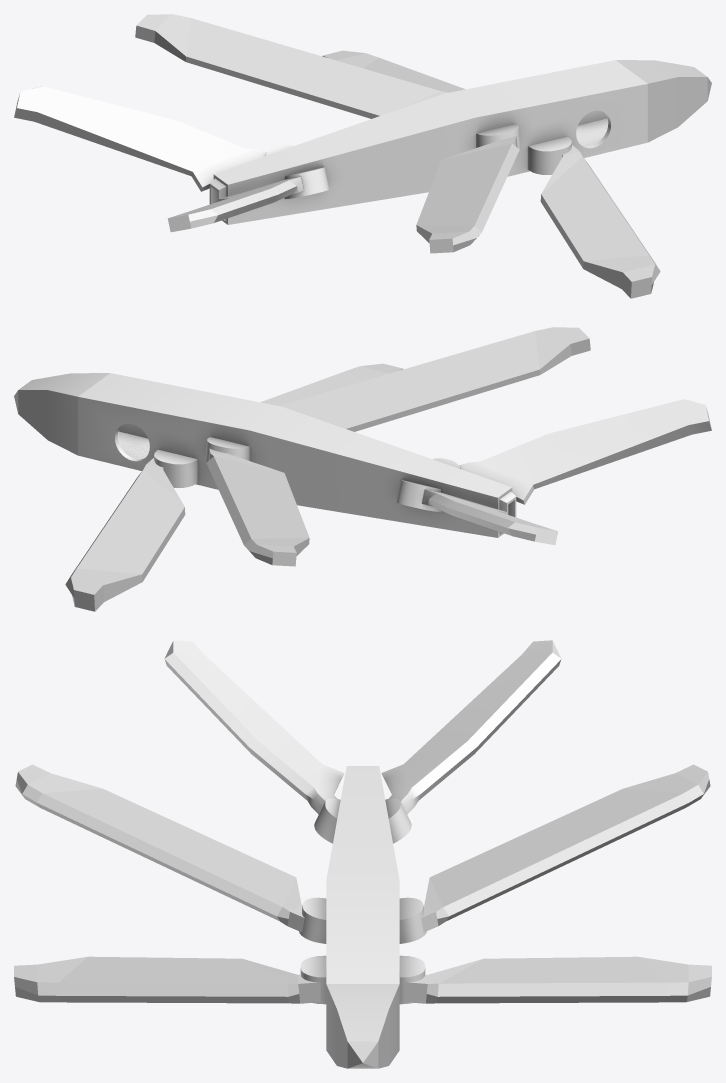
Rendered from ship with interiors.glb.
The picture shows the model from 3 angles, top to bottom: view 1: azimuth 30°, elevation 25°; view 2: azimuth 150°, elevation 25°; view 3: azimuth 270°, elevation 25°; orthographic projection. The views are drawn at different scales.
Visible parts, largest first — view 1: body.001, Wing4, Wing1, Wing3, wing2; view 2: body.001, Wing3, wing2, Wing4, Wing1; view 3: body.001, Wing4, Wing3, Wing1, wing2.
Part boxes in pixels (box(x1,y1,x2,y2)): body.001: box(14, 60, 711, 232); Wing4: box(135, 14, 448, 118); Wing1: box(540, 145, 660, 298); Wing3: box(416, 135, 519, 253); wing2: box(322, 50, 465, 92); body.001: box(14, 373, 711, 545); Wing3: box(277, 327, 590, 431); wing2: box(65, 458, 185, 611); Wing4: box(206, 448, 309, 566); Wing1: box(260, 363, 403, 405); body.001: box(164, 640, 561, 1068); Wing4: box(421, 764, 710, 932); Wing3: box(15, 764, 304, 932); Wing1: box(14, 956, 320, 1003); wing2: box(405, 956, 711, 1003).
Size of what is drawn, in the model's own units: 31.5 by 6.02 by 27.23.
Materials: 3 (1 with a texture image).
